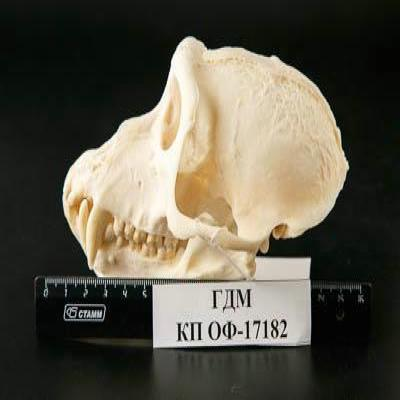natural_science_collection: (61, 37, 350, 280)
